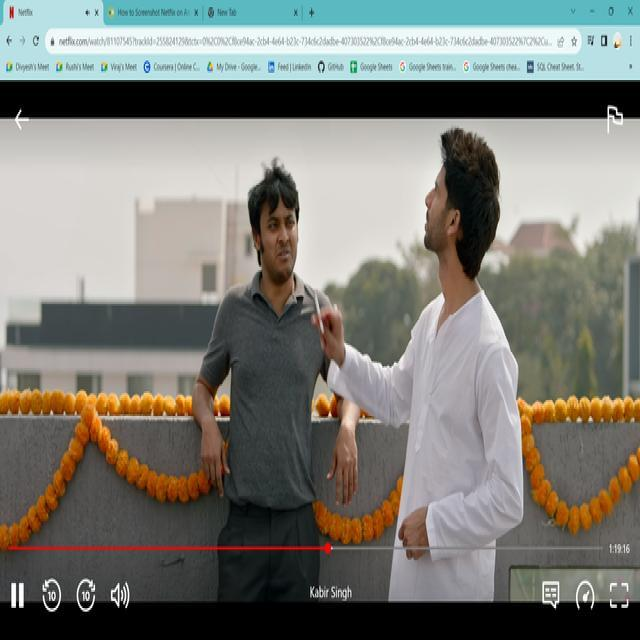smoking: (312, 290, 329, 342)
